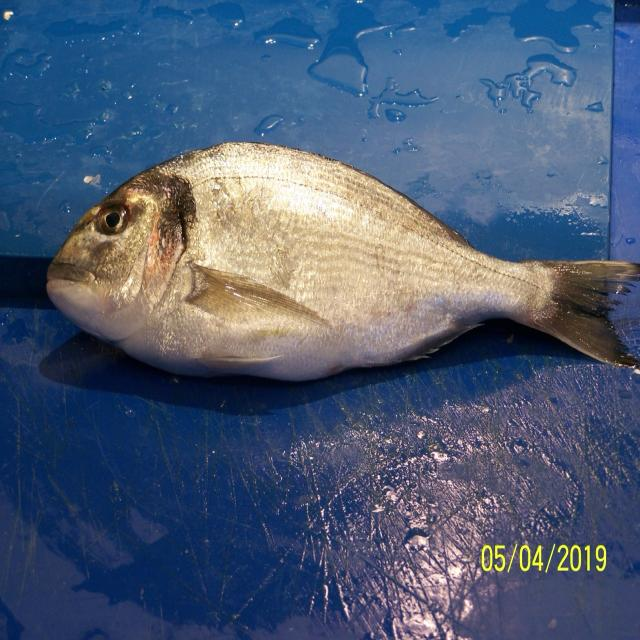Gilt-Head-Bream-c-ipura-: (44, 142, 640, 385)
